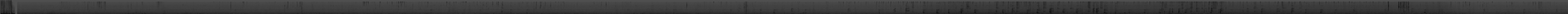Moan: (1036, 0, 1039, 14), (1049, 0, 1052, 14), (1211, 0, 1212, 14)
